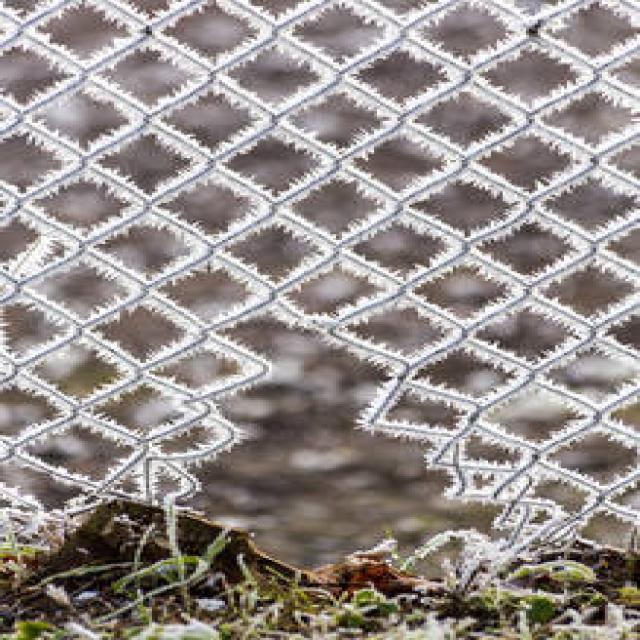fence line: (117, 311, 552, 588)
